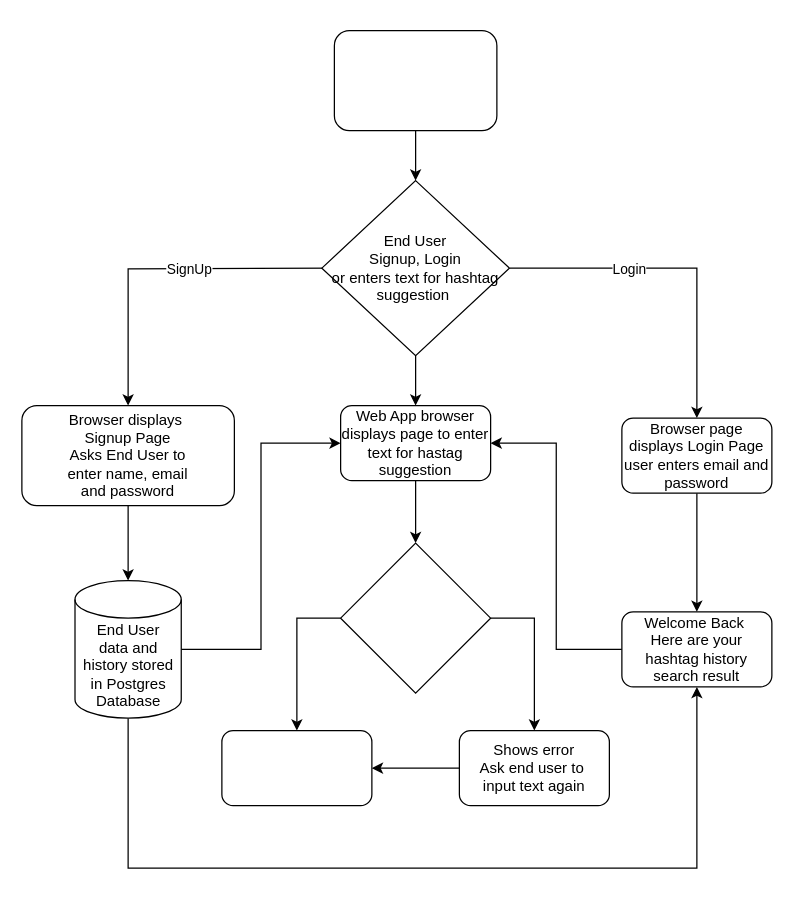
Some shapes in this 794 by 900 pixel diagram are drawn without their labels. Each missing label, with the box of its shape:
#Hashtag suggestion Web App: (333, 29, 497, 131)
API searchs end users input and displays results: (339, 542, 491, 693)
Shows results on browser page: (221, 729, 372, 806)
